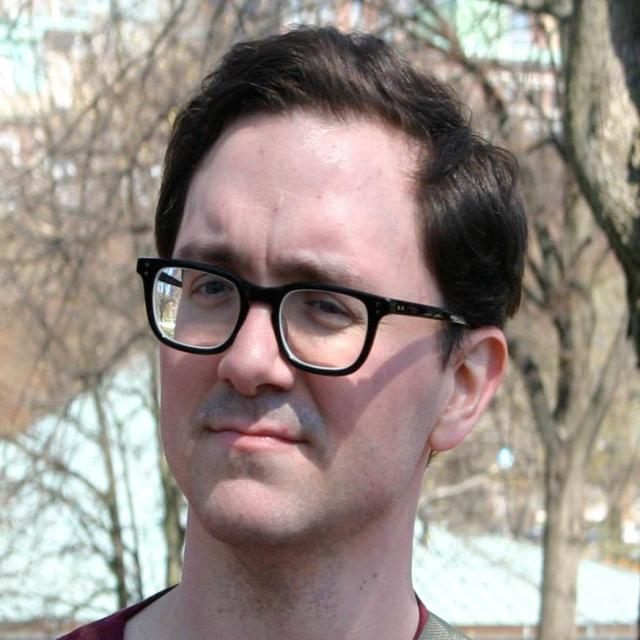no-glass: (189, 266, 352, 325)
